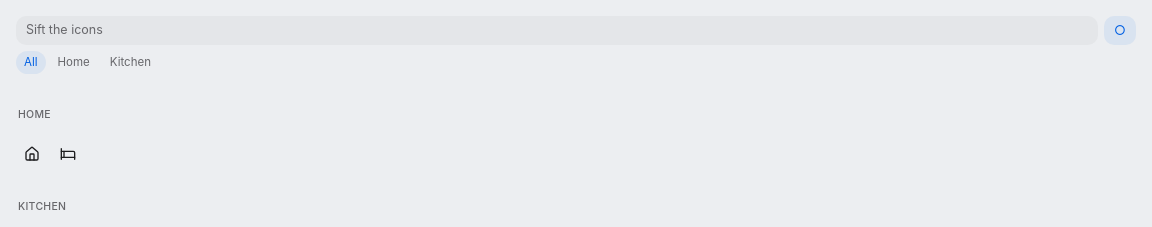
Test: a catalogue offered by family › searches across them all, so a family cannot hide what was typed
Click the button "Kitchen".
click(130, 62)  # box [102,51,159,74]
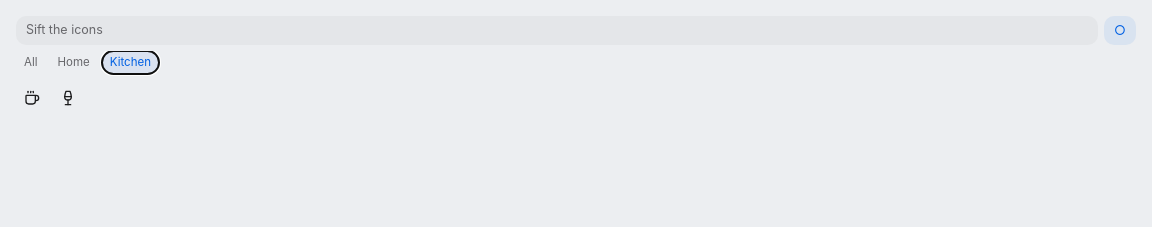
Type "bed" into the field.
click(557, 30); type("bed")  # box [16,16,1098,45]
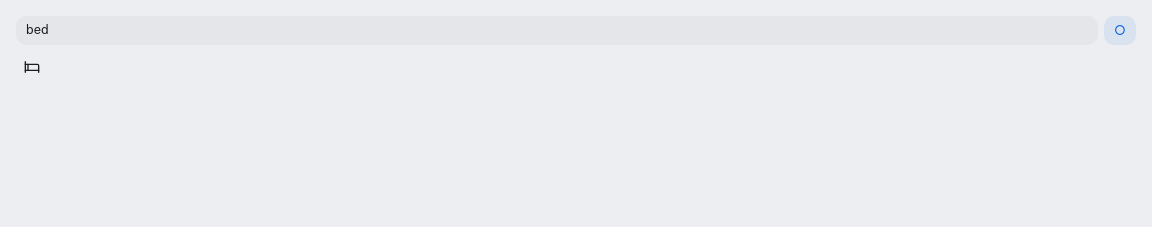
Now the button named "bed" is shown, box [16,51,48,83]
Now the button "Kitchen" is gone
